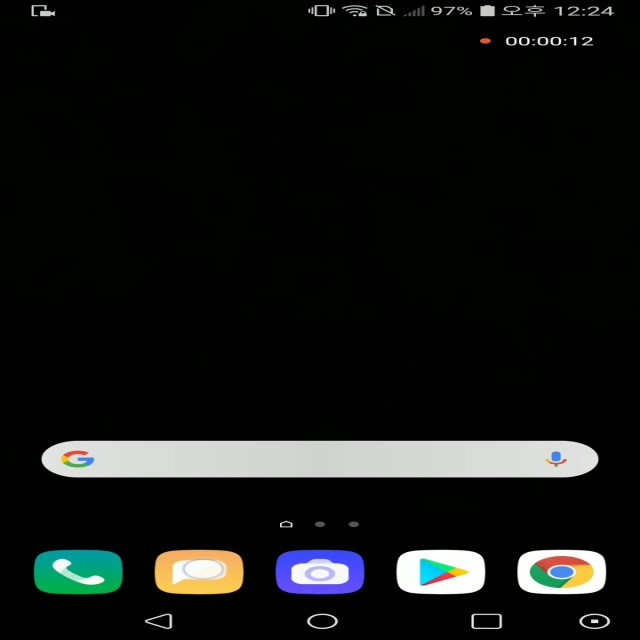Cursor: (183, 559, 227, 581)
